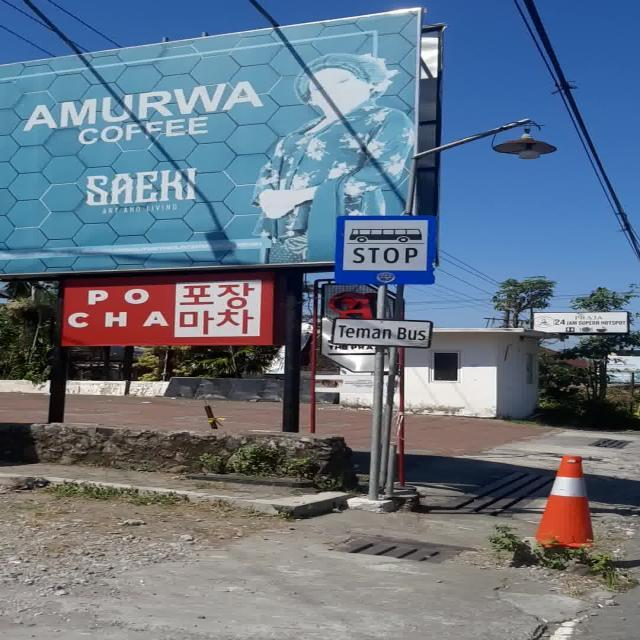Pemberhentian Bus: (334, 215, 437, 285)
